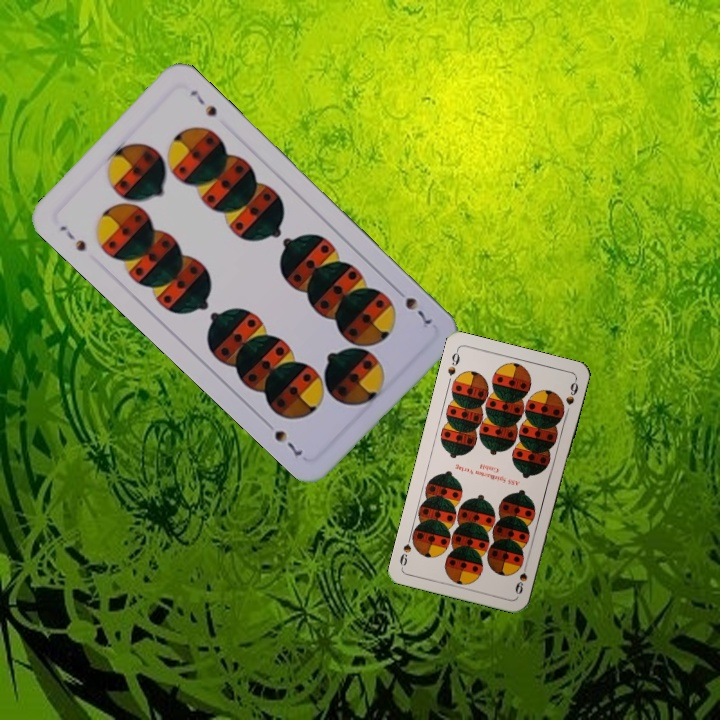S7: (390, 283, 434, 327), (55, 221, 89, 254)
S9: (511, 558, 530, 597), (443, 346, 462, 378)
